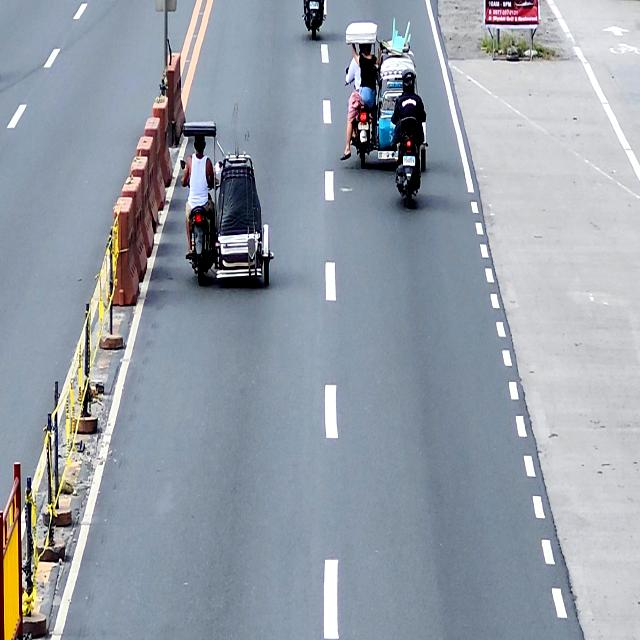License-Plate: (402, 149, 416, 172), (308, 0, 322, 11)
Motorcycle: (391, 116, 427, 208), (302, 0, 326, 40)
Tricycle: (179, 116, 274, 297), (345, 23, 428, 171)
